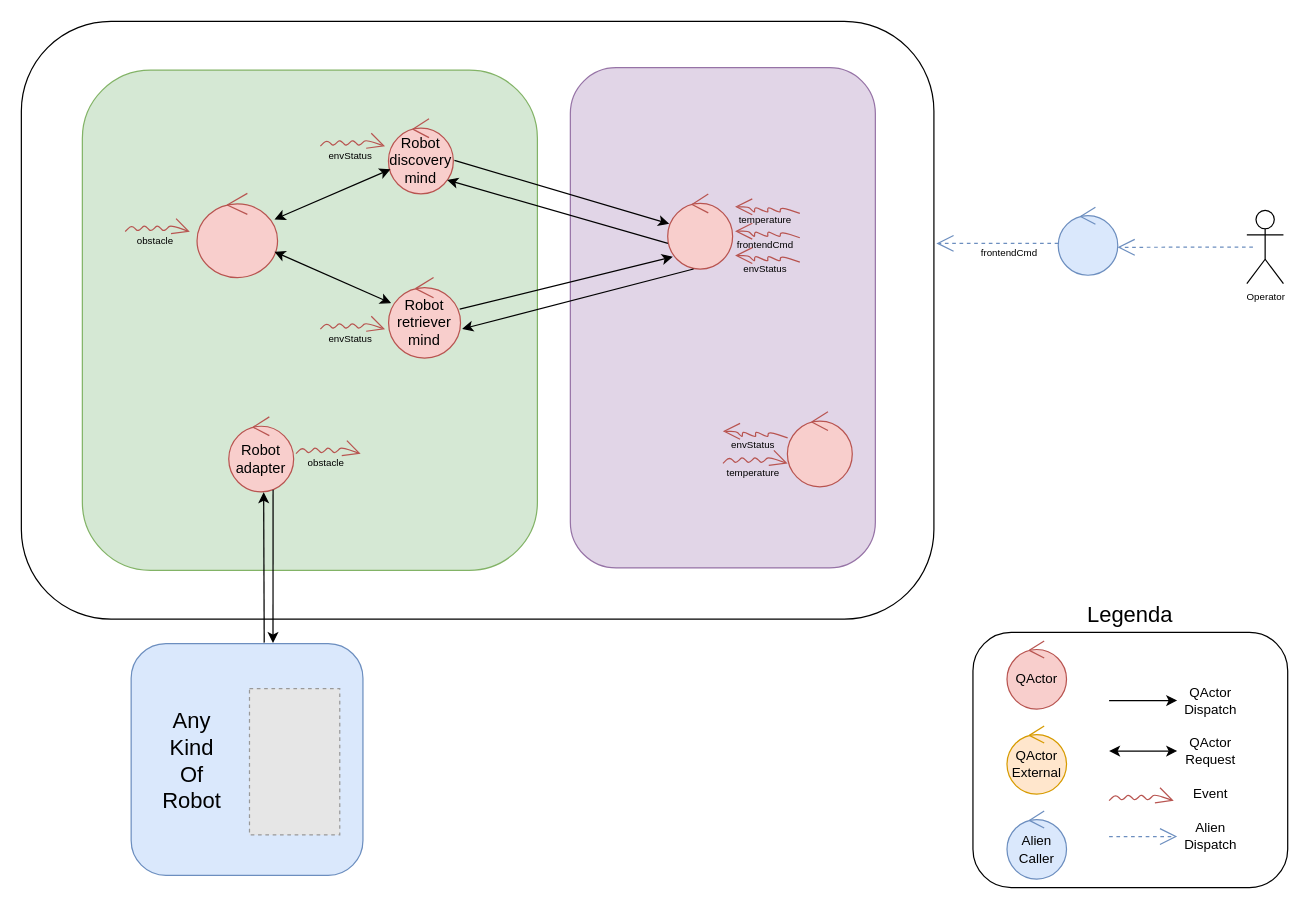
This 1309x909 diagram has some shape labels left out. Grey dashed boxes stand in for pictures. The box of each missing label's shape, as (x1, y1, x2, y2) in pixels:
Console: (666, 193, 733, 269)
Frontend: (1057, 206, 1118, 275)
Robot advanced: (196, 192, 278, 278)
World observer: (786, 411, 852, 487)
